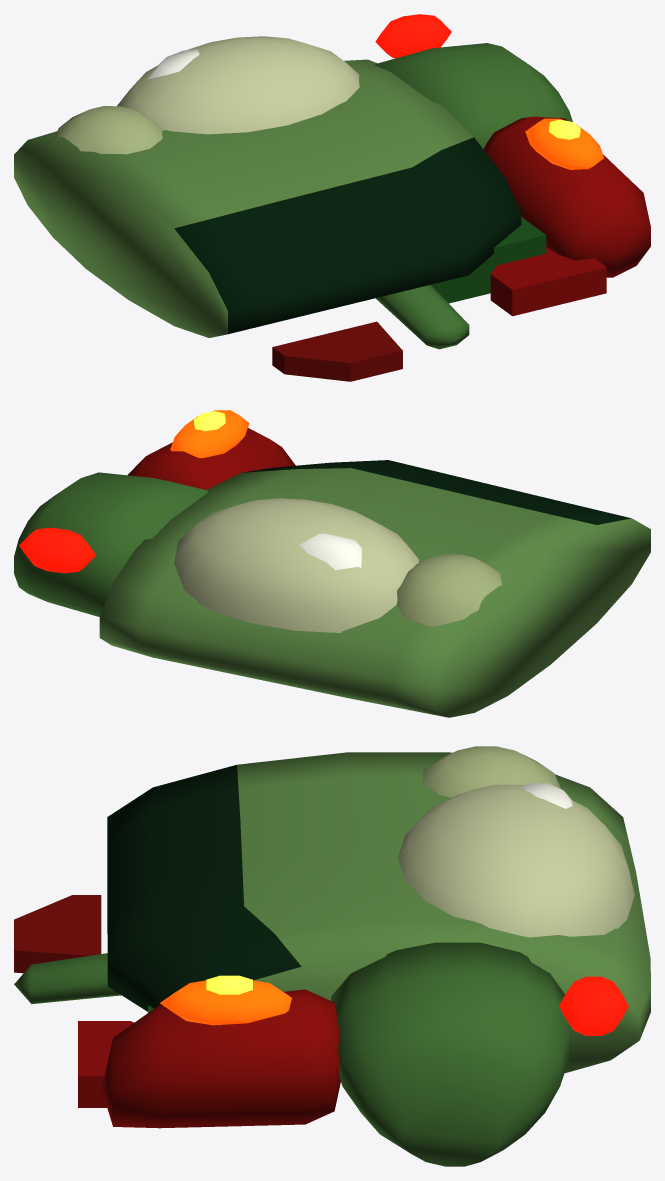
File: newshj-283.glb
3 views of the same model, one above another, from view 1: azimuth 30°, elevation 25°; view 2: azimuth 150°, elevation 25°; view 3: azimuth 270°, elevation 25° (orthographic). The views are drawn at different scales.
Parts seen in each view (by area): view 1: newshj-283; view 2: newshj-283; view 3: newshj-283.
Part boxes in pixels (x1,y1,x2,y2): newshj-283: [14, 14, 650, 381]; newshj-283: [14, 410, 650, 717]; newshj-283: [14, 746, 650, 1166].
Bounding box in the file's own units: 1.86 × 0.5962 × 1.82.
